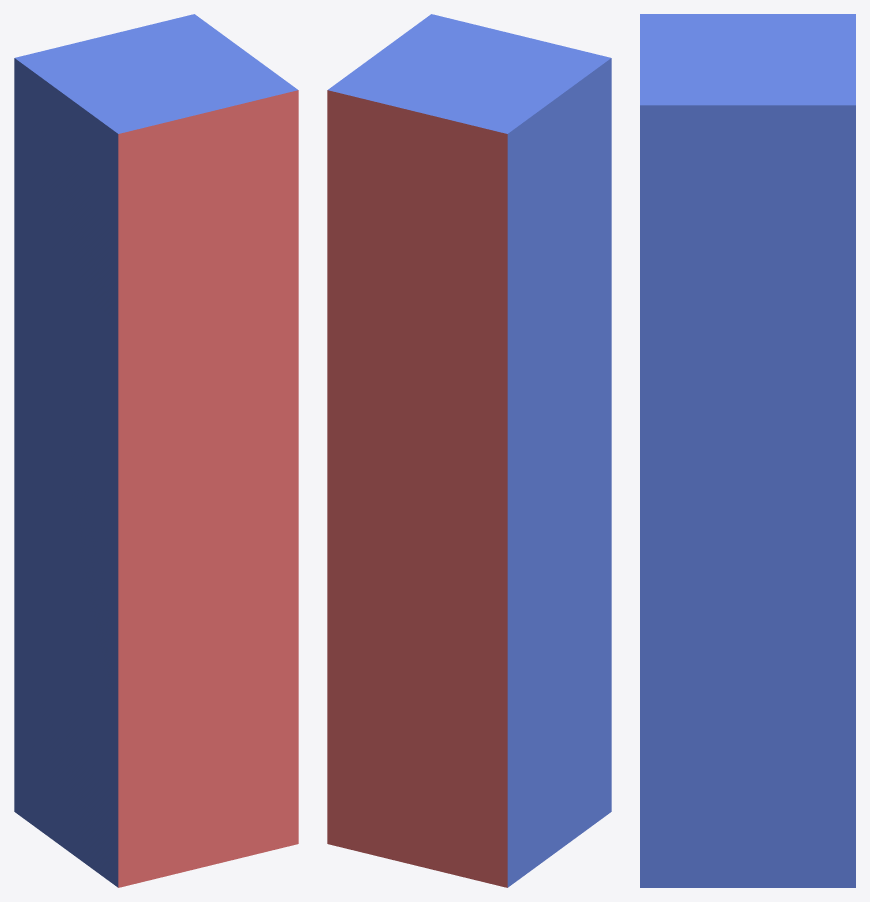
The model's file is memory.dae.
3 renders of one model, left to right at view 1: azimuth 30°, elevation 25°; view 2: azimuth 150°, elevation 25°; view 3: azimuth 270°, elevation 25°, orthographic. The views are drawn at different scales.
Visible parts, largest first — view 1: zxz (×4), zxo (×2); view 2: zxz (×4), zxo (×2); view 3: zxz (×2), zxo.
Boxes of the visible parts, x1,y1,x2,y2 form: zxz (×4): [14, 14, 298, 887]; zxo (×2): [14, 246, 298, 699]; zxz (×4): [327, 14, 611, 887]; zxo (×2): [327, 246, 611, 699]; zxz (×2): [640, 14, 855, 887]; zxo: [640, 301, 855, 692].
Bounding box in the file's own units: 1 × 1 × 4.
